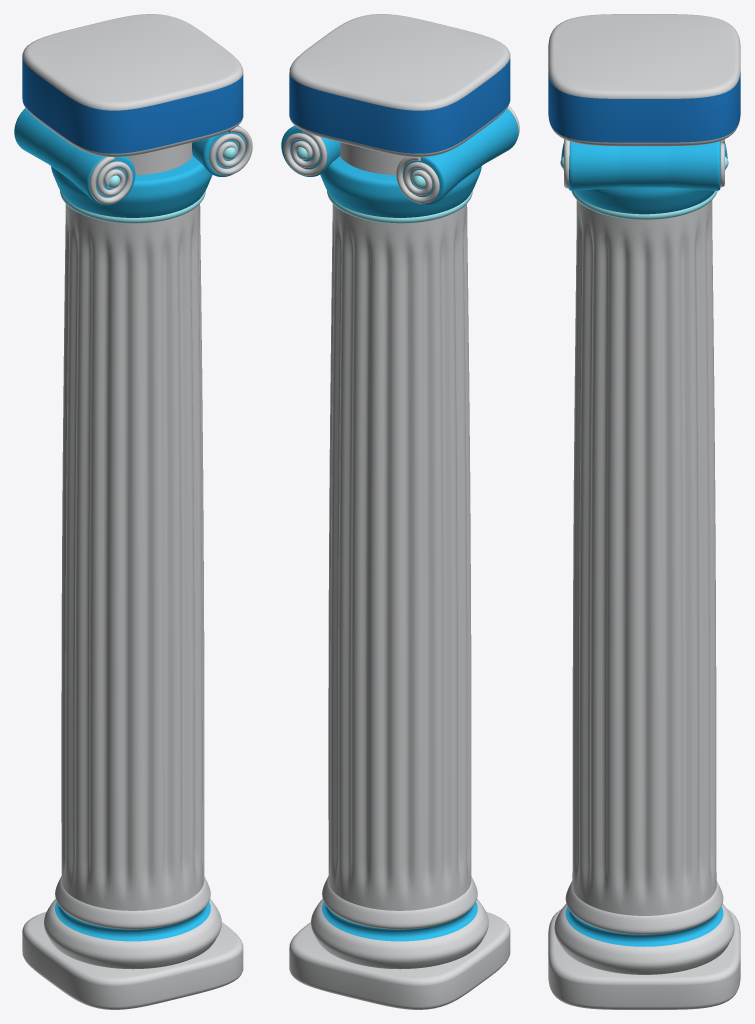
The model's file is Pillar_D09_AeroIonic.fbx.
3 renders of one model, left to right at view 1: azimuth 30°, elevation 25°; view 2: azimuth 150°, elevation 25°; view 3: azimuth 270°, elevation 25°, orthographic.
Parts seen in each view (by area): view 1: Pillar_D09_AeroIonic; view 2: Pillar_D09_AeroIonic; view 3: Pillar_D09_AeroIonic.
Boxes of the visible parts, left/top/right/bottom form: Pillar_D09_AeroIonic: left=14, top=14, right=252, bottom=1009; Pillar_D09_AeroIonic: left=281, top=14, right=519, bottom=1009; Pillar_D09_AeroIonic: left=548, top=14, right=740, bottom=1009.
Bounding box in the file's own units: 0.76 × 4 × 0.76.
